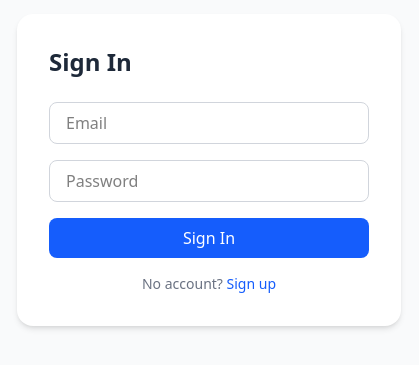
Test: AuthForm › shows error message on sign in failure
In the field with placeholder "Email": (209, 123) [49, 102, 369, 144], type "test@example.com"
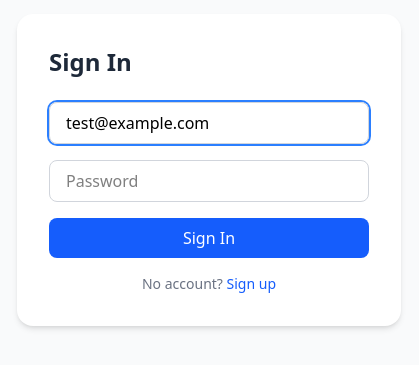
In the password field with placeholder "Password": (209, 181) [49, 160, 369, 202], type "wrong"
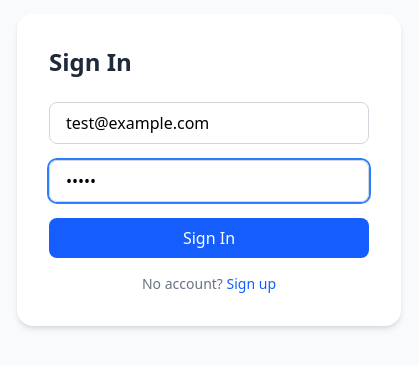
Click the button "Sign In": (209, 238) [49, 218, 369, 258]
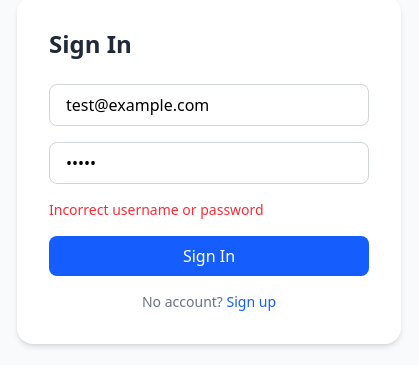
Now the text "Incorrect username or password" is shown, box [49, 200, 264, 219]
